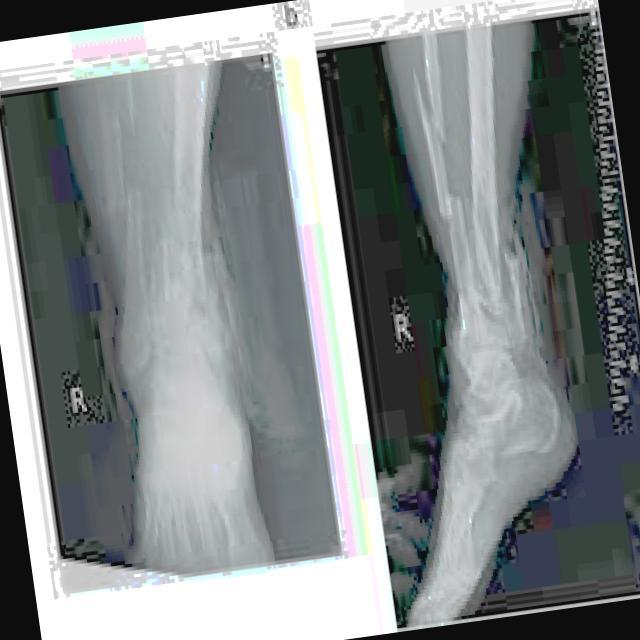Comminuted Fracture: (390, 60, 462, 156), (429, 182, 469, 235)
